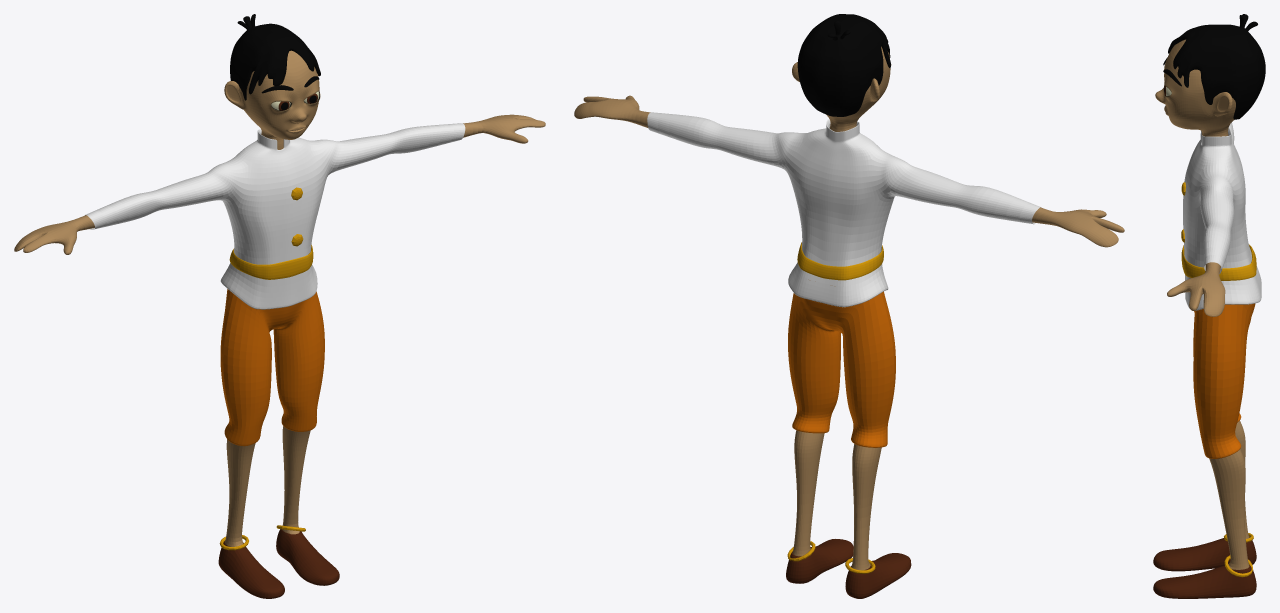
The model's file is YoungerBro_Model1.fbx.
3 renders of one model, left to right at view 1: azimuth 30°, elevation 25°; view 2: azimuth 150°, elevation 25°; view 3: azimuth 270°, elevation 25°, orthographic. The views are drawn at different scales.
Parts seen in each view (by area): view 1: Cube.006, Cube.007, Cube.001, Cube.010, Cube.012, Cube.011, Cube.008; view 2: Cube.006, Cube.007, Cube.001, Cube.010, Cube.011, Cube.012, Cube.008; view 3: Cube.006, Cube.001, Cube.007, Cube.010, Cube.011, Cube.012, Cube.008, Torus.
Boxes of the visible parts, left/top/right/bottom form: Cube.006: left=85, top=123, right=465, bottom=309; Cube.007: left=220, top=289, right=324, bottom=446; Cube.001: left=14, top=50, right=545, bottom=546; Cube.010: left=230, top=14, right=320, bottom=100; Cube.012: left=218, top=541, right=284, bottom=598; Cube.011: left=276, top=529, right=339, bottom=585; Cube.008: left=229, top=245, right=313, bottom=279; Cube.006: left=647, top=112, right=1040, bottom=307; Cube.007: left=788, top=291, right=895, bottom=447; Cube.001: left=574, top=46, right=1124, bottom=570; Cube.010: left=797, top=14, right=890, bottom=116; Cube.011: left=786, top=539, right=853, bottom=583; Cube.012: left=845, top=553, right=911, bottom=598; Cube.008: left=797, top=242, right=883, bottom=280; Cube.006: left=1183, top=122, right=1261, bottom=310; Cube.001: left=1155, top=39, right=1249, bottom=569; Cube.007: left=1193, top=303, right=1255, bottom=458; Cube.010: left=1168, top=14, right=1265, bottom=119; Cube.011: left=1153, top=565, right=1256, bottom=598; Cube.012: left=1153, top=536, right=1256, bottom=571; Cube.008: left=1181, top=244, right=1256, bottom=280; Torus: left=1224, top=555, right=1252, bottom=577.
Size of the model in its own units: 1124 by 1127 by 205.
